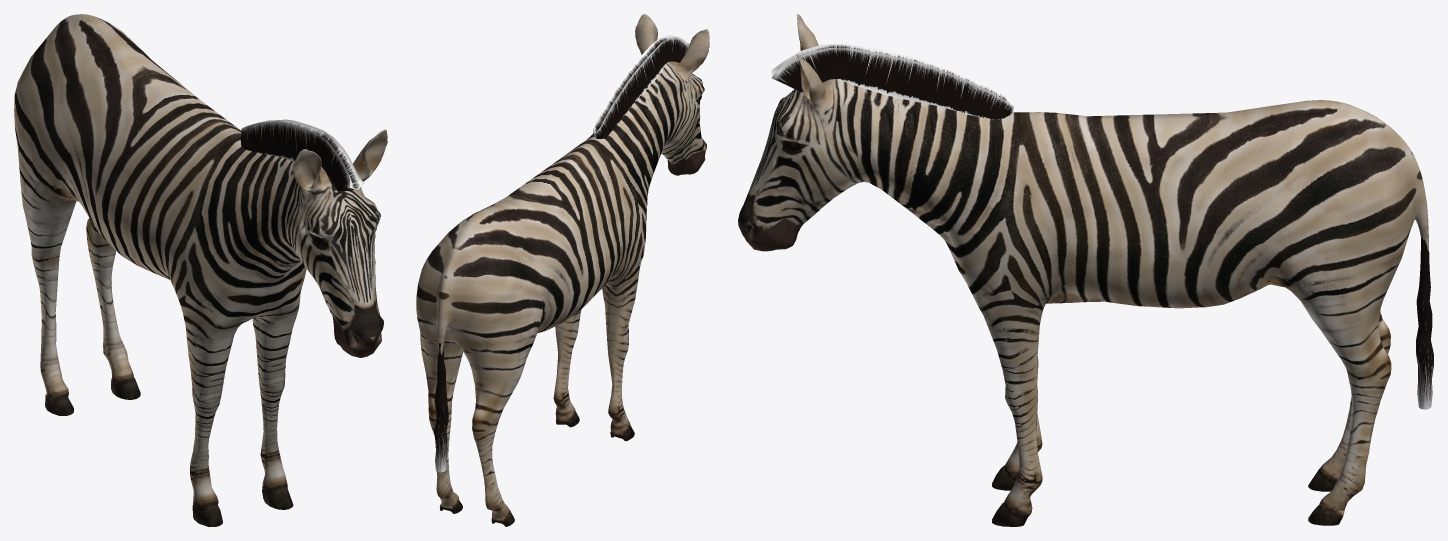
3 renders of one model, left to right at view 1: azimuth 30°, elevation 25°; view 2: azimuth 150°, elevation 25°; view 3: azimuth 270°, elevation 25°, orthographic. The views are drawn at different scales.
Parts seen in each view (by area): view 1: 3DSMeshMatrix (×2); view 2: 3DSMeshMatrix (×3); view 3: 3DSMeshMatrix (×3).
Boxes of the visible parts, x1,y1,x2,y2 form: 3DSMeshMatrix (×2): (14,14,387,526); 3DSMeshMatrix (×3): (416,14,709,526); 3DSMeshMatrix (×3): (738,14,1433,526).
Bounding box in the file's own units: 1527 × 4806 × 6465.
Materials: 4 (4 with a texture image).
